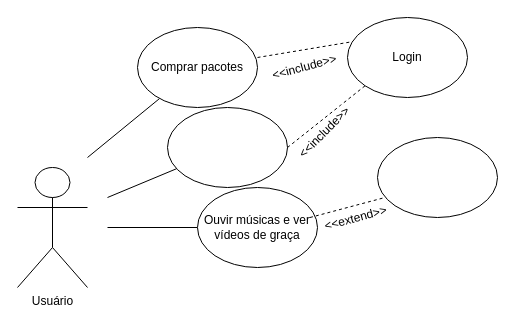
This 515x326 diagram has some shape labels left out. The centre of each missing label's shape, as x and y in pixels:
"Acessar legendas e traduções" belongs at (x=437, y=177).
"Editar perfil" belongs at (x=227, y=147).
